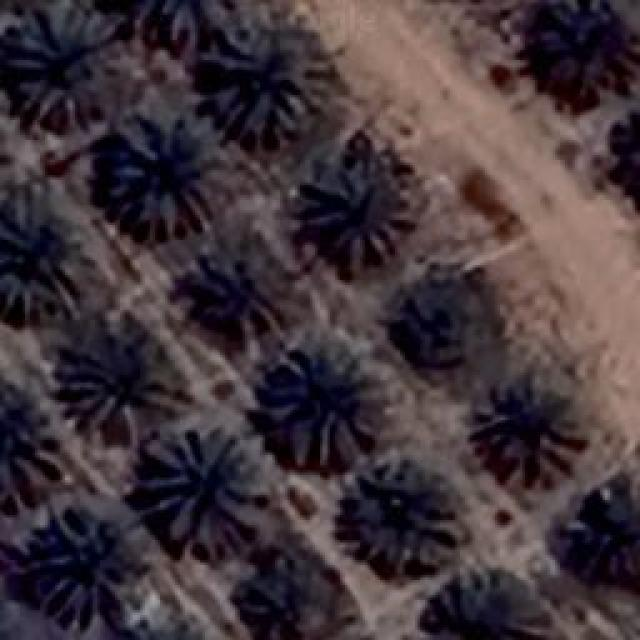PalmTree: (113, 43, 581, 100), (138, 422, 268, 560), (205, 15, 328, 143), (344, 452, 468, 570), (268, 338, 380, 468), (107, 108, 220, 235), (8, 4, 118, 128), (32, 508, 140, 628), (470, 380, 582, 490), (308, 157, 410, 265), (65, 340, 180, 425), (565, 484, 640, 608), (0, 202, 80, 316), (426, 562, 536, 640), (0, 382, 65, 510), (246, 550, 336, 640), (182, 252, 268, 332), (410, 276, 482, 354), (609, 100, 640, 207), (98, 617, 223, 640), (102, 623, 224, 640), (622, 100, 640, 208), (628, 100, 640, 208)
